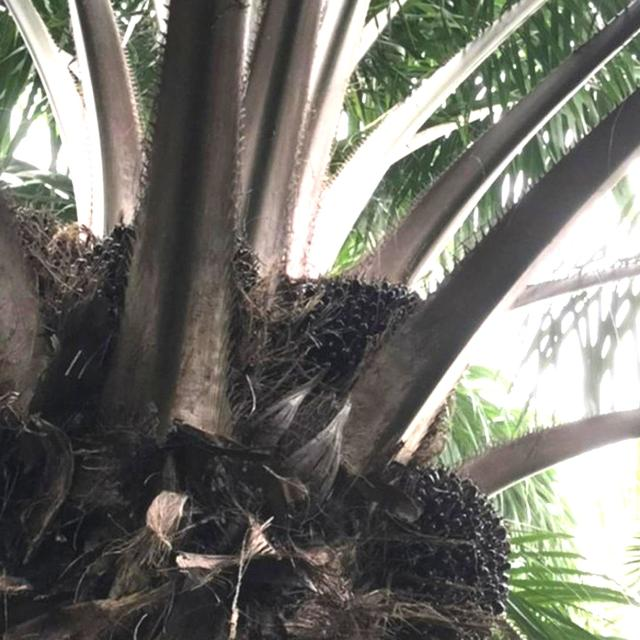unripe: (343, 451, 527, 640), (260, 261, 434, 415)
